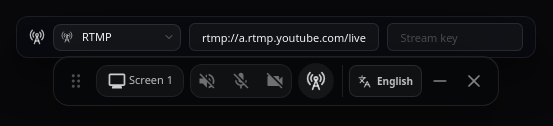
it: LaunchWindow screen selection › shows YouTube as not configured without a sign-in button when OAuth is missing
Expected: the text "Screen 1" is shown, [129, 73, 173, 89]
Select "YouTube Live" in the dropdown named "Destination provider" at coordinates (117, 38), box [53, 24, 181, 51]
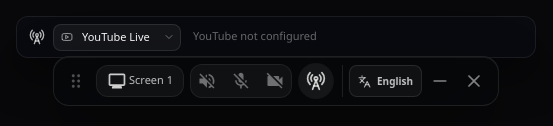
Expected: the message reads "YouTube not configured", [193, 29, 317, 44]
